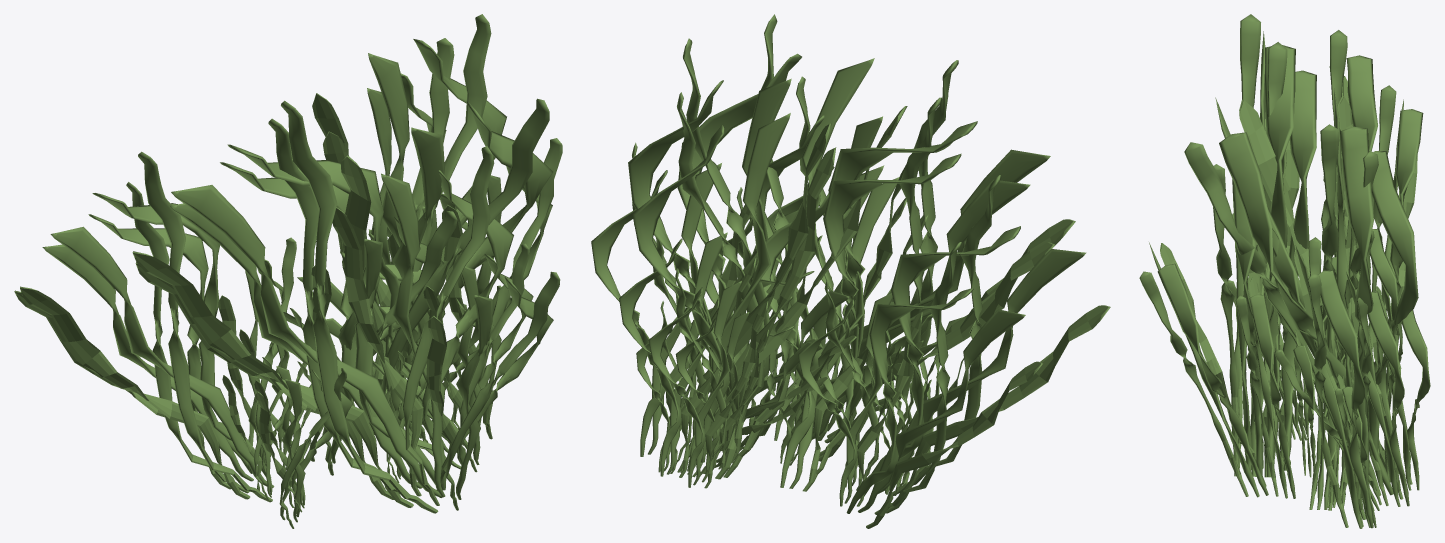
The model's file is env_tubeweed_mdl_v01.fbx.
3 renders of one model, left to right at view 1: azimuth 30°, elevation 25°; view 2: azimuth 150°, elevation 25°; view 3: azimuth 270°, elevation 25°, orthographic. The views are drawn at different scales.
Parts seen in each view (by area): view 1: tubeWeed_geo; view 2: tubeWeed_geo; view 3: tubeWeed_geo.
Part boxes in pixels (<box>): tubeWeed_geo: <box>14,14,562,528</box>; tubeWeed_geo: <box>591,14,1110,528</box>; tubeWeed_geo: <box>1139,14,1430,528</box>.
Bounding box in the file's own units: 41.72 × 33.37 × 21.43.
